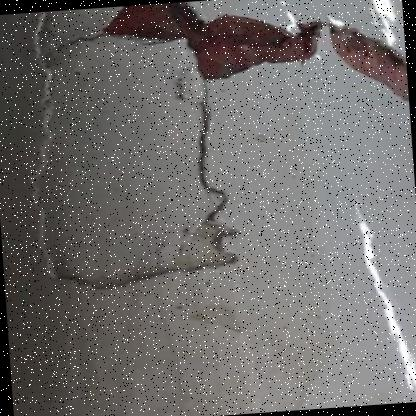Crack: (0, 0, 252, 306), (227, 0, 408, 127)
